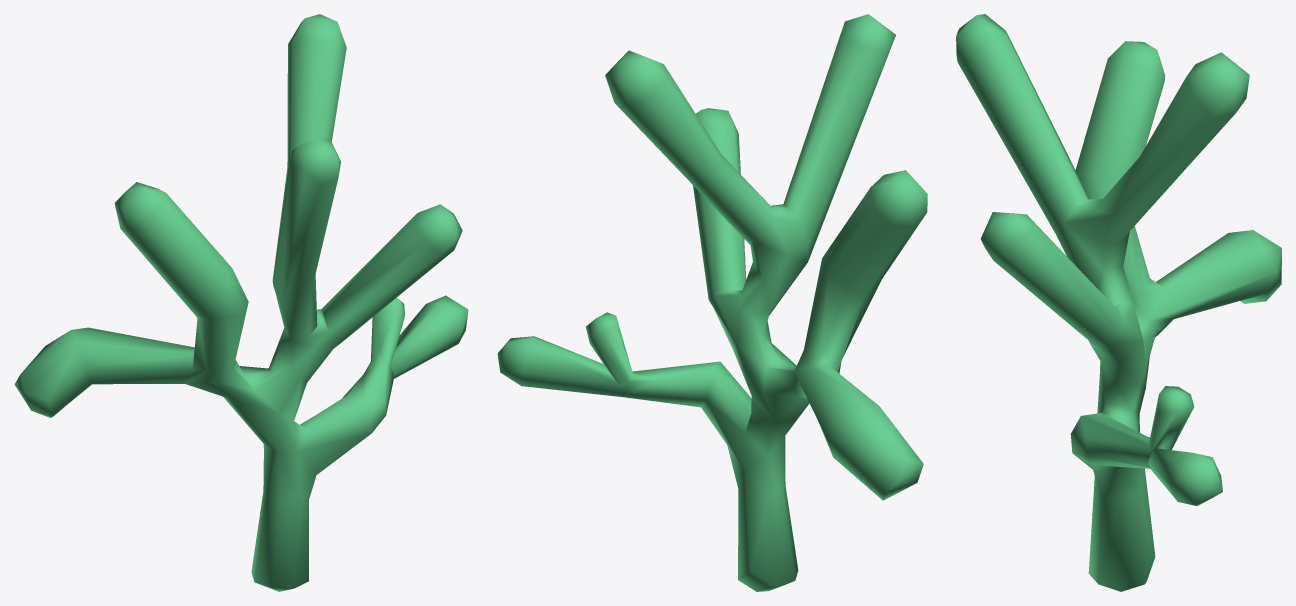
Rendered from D_CoralReef.112.glb.
The picture shows the model from 3 angles, left to right: view 1: azimuth 30°, elevation 25°; view 2: azimuth 150°, elevation 25°; view 3: azimuth 270°, elevation 25°; orthographic projection. The views are drawn at different scales.
Visible parts, largest first — view 1: D_CoralReef.112; view 2: D_CoralReef.112; view 3: D_CoralReef.112.
Boxes of the visible parts, box(x1,y1,x2,y2) form: D_CoralReef.112: box(14, 14, 468, 591); D_CoralReef.112: box(497, 14, 927, 591); D_CoralReef.112: box(956, 14, 1281, 591).
Size of the model in its own units: 0.5952 by 0.7064 by 0.3629.
1 material, 1 textured.
